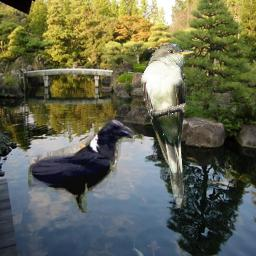Crow: (28, 118, 135, 213)
Cuckoo: (141, 43, 195, 209)
